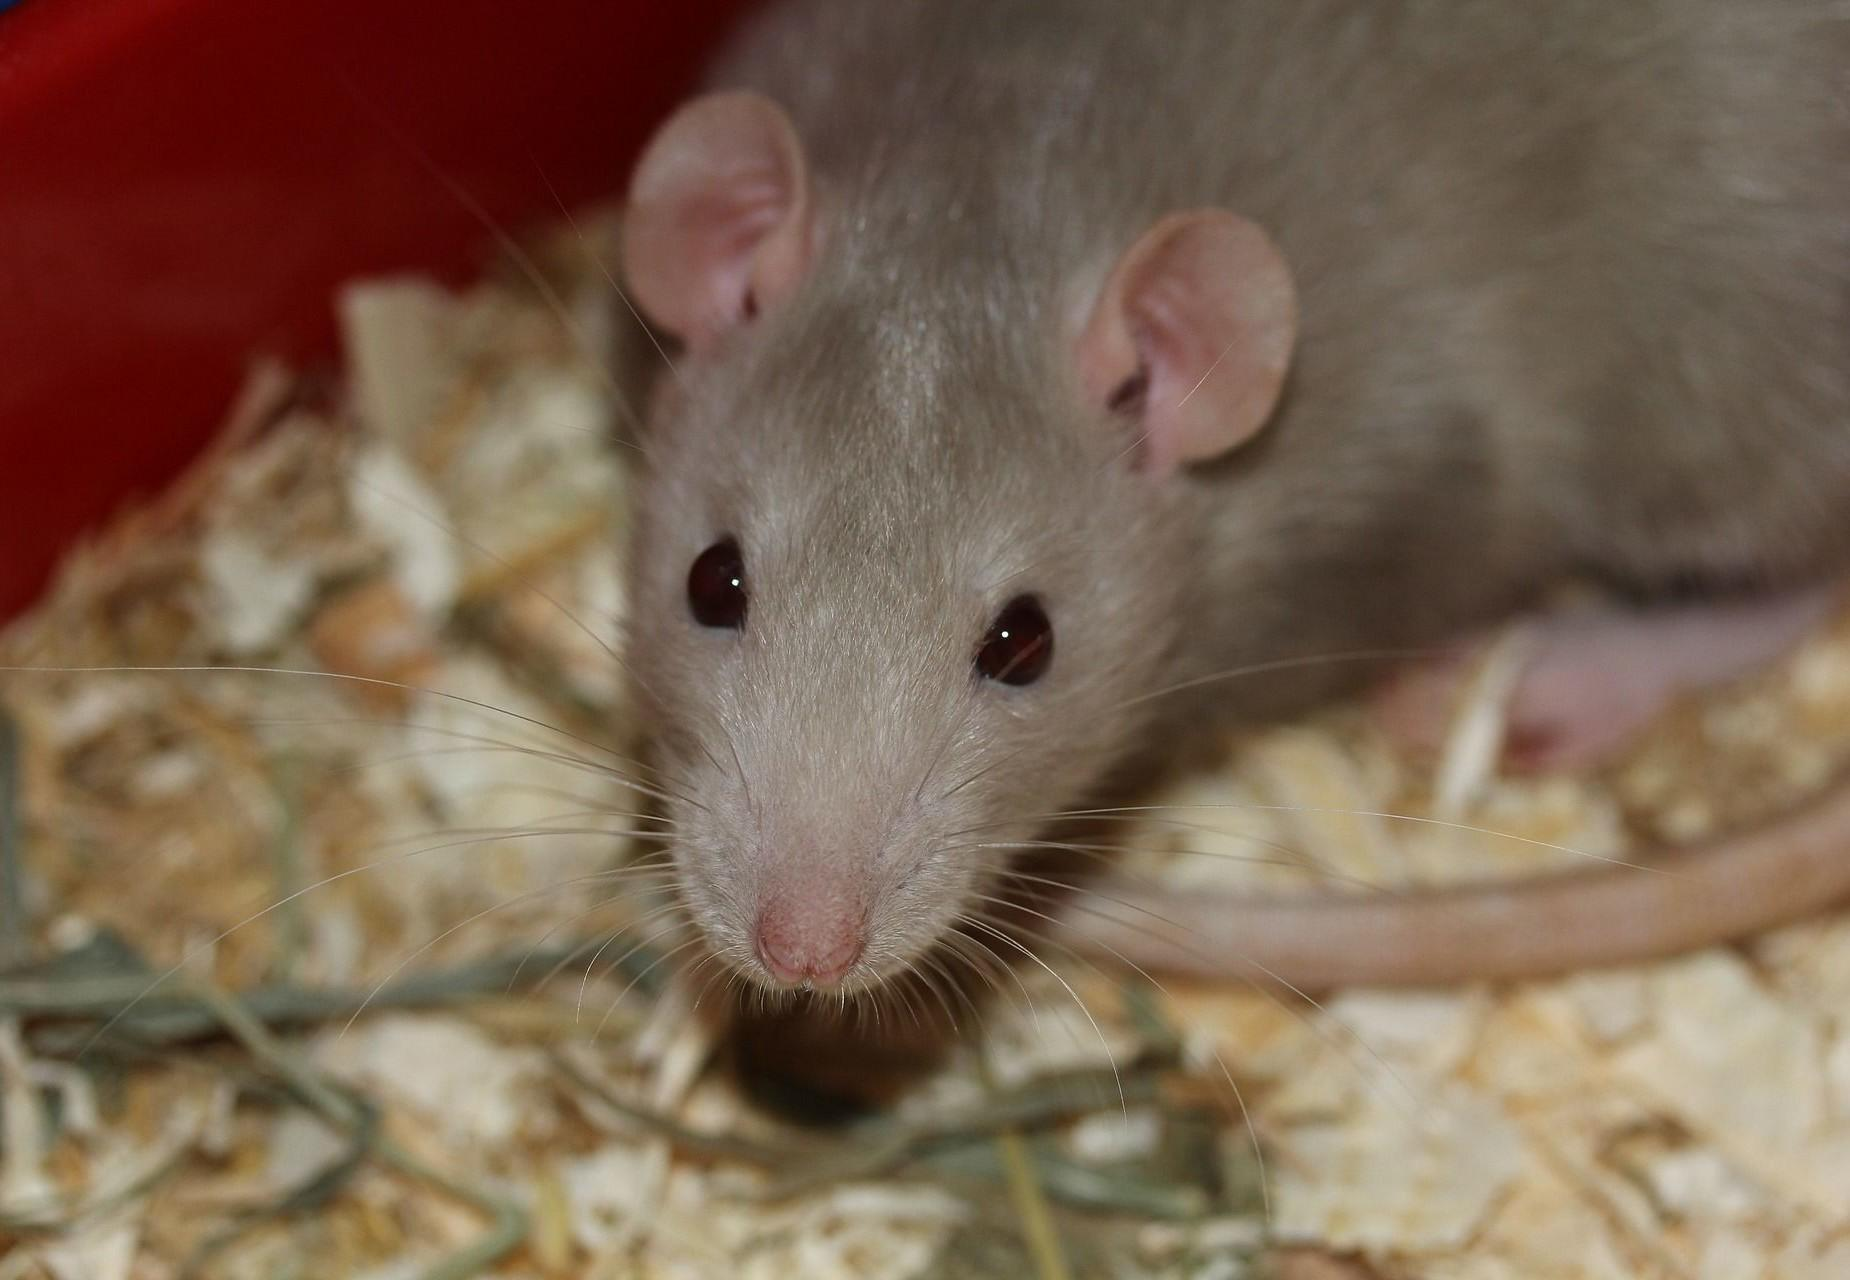Rat: (513, 46, 1276, 1066)
